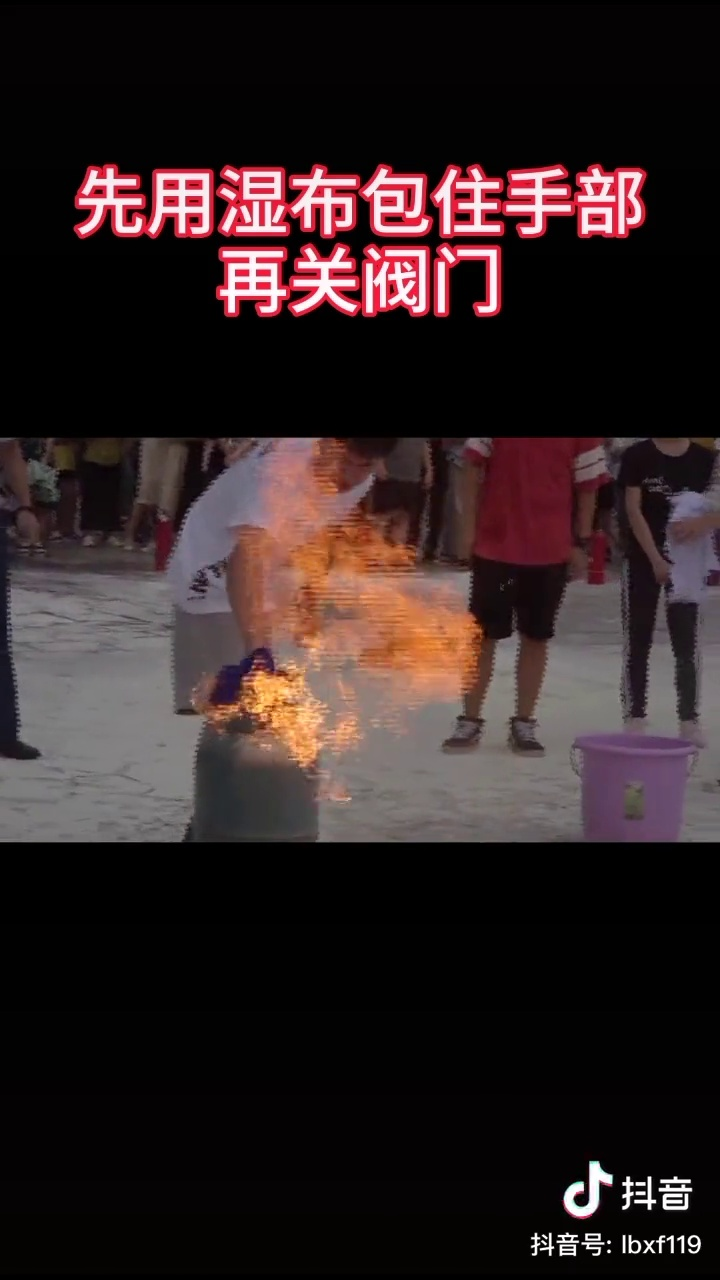fire: (249, 534, 462, 777)
